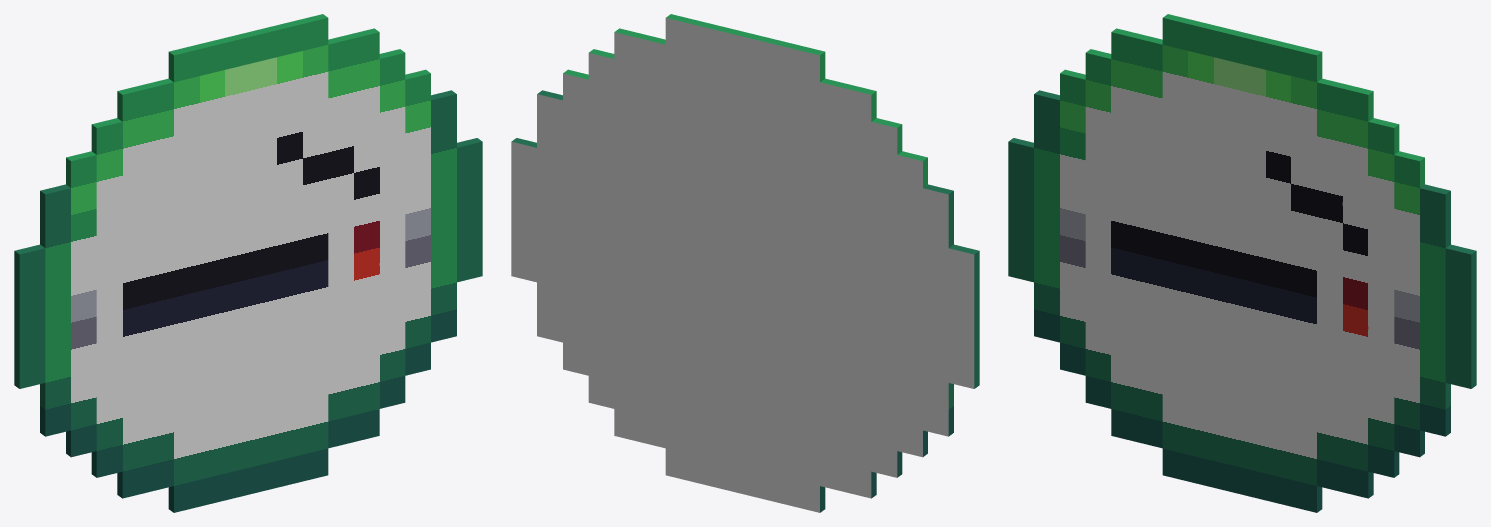
File: warning_sign_yessmoking.glb
The picture shows the model from 3 angles, left to right: view 1: azimuth 30°, elevation 25°; view 2: azimuth 150°, elevation 25°; view 3: azimuth 330°, elevation 25°; orthographic projection.
Visible parts, largest first — view 1: Continuous_Stepped_Sign_Plate; view 2: Continuous_Stepped_Sign_Plate; view 3: Continuous_Stepped_Sign_Plate.
Boxes of the visible parts, x1,y1,x2,y2 form: Continuous_Stepped_Sign_Plate: (14,14,482,512); Continuous_Stepped_Sign_Plate: (511,14,979,512); Continuous_Stepped_Sign_Plate: (1008,14,1476,512).
Size of the model in its own units: 0.5063 by 0.4781 by 0.00984.
Materials: 1 (1 with a texture image).
